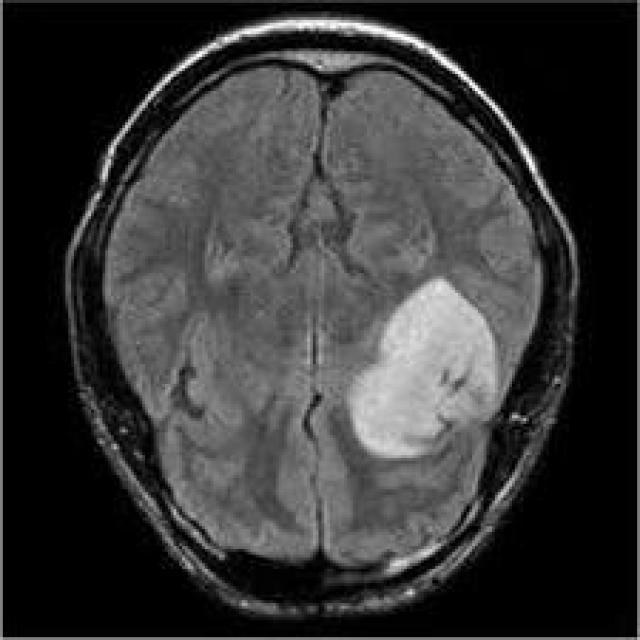brain tumor: (350, 270, 495, 455)
